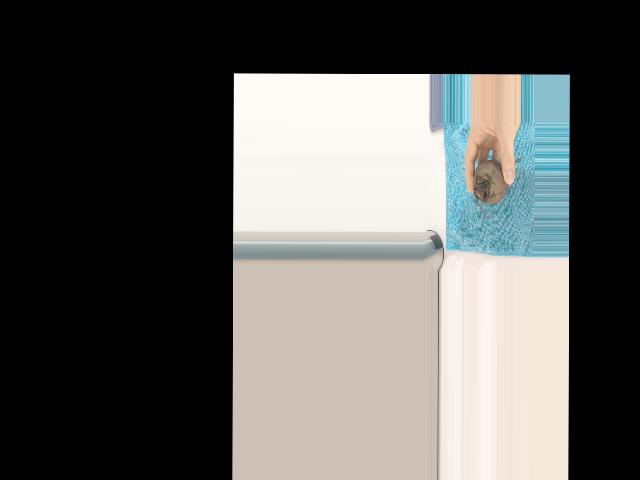beet: (473, 157, 523, 218)
